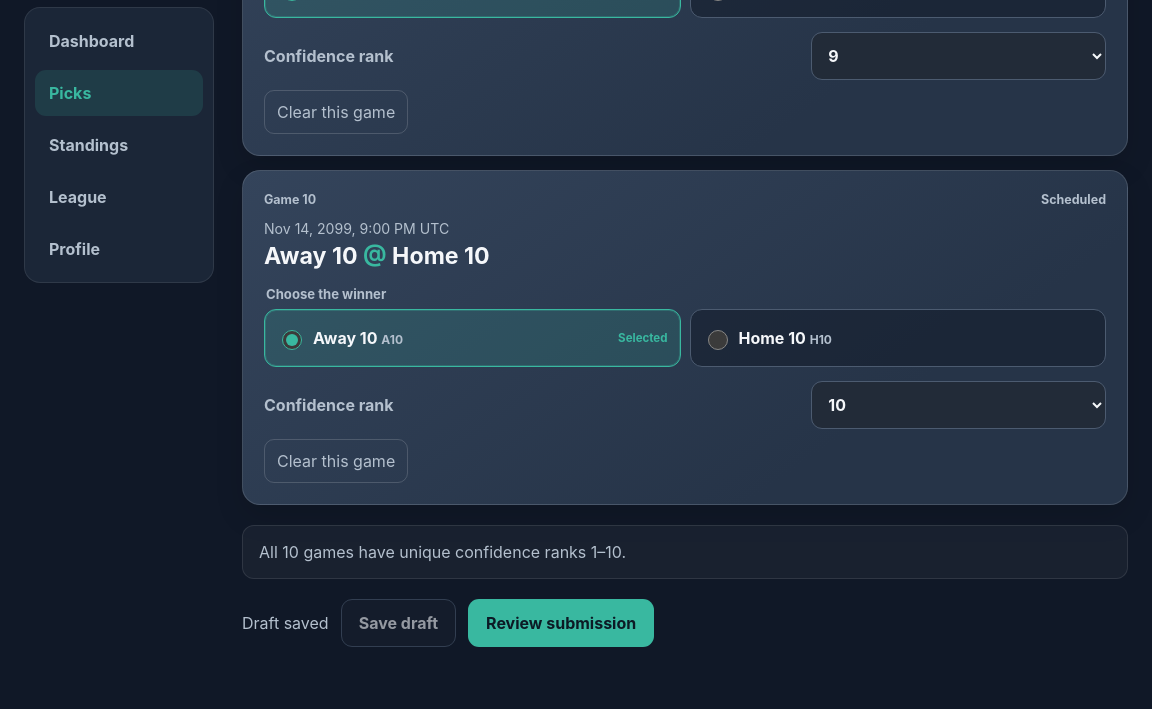
Test: React Picks workflow › does not report Submitted when an HTTP 503 is reconciled to a server Draft
The width and height of the screenshot is (1152, 709).
(page scrolled)
Click the button "Review submission".
click(561, 623)  # box left=468, top=599, right=654, bottom=647
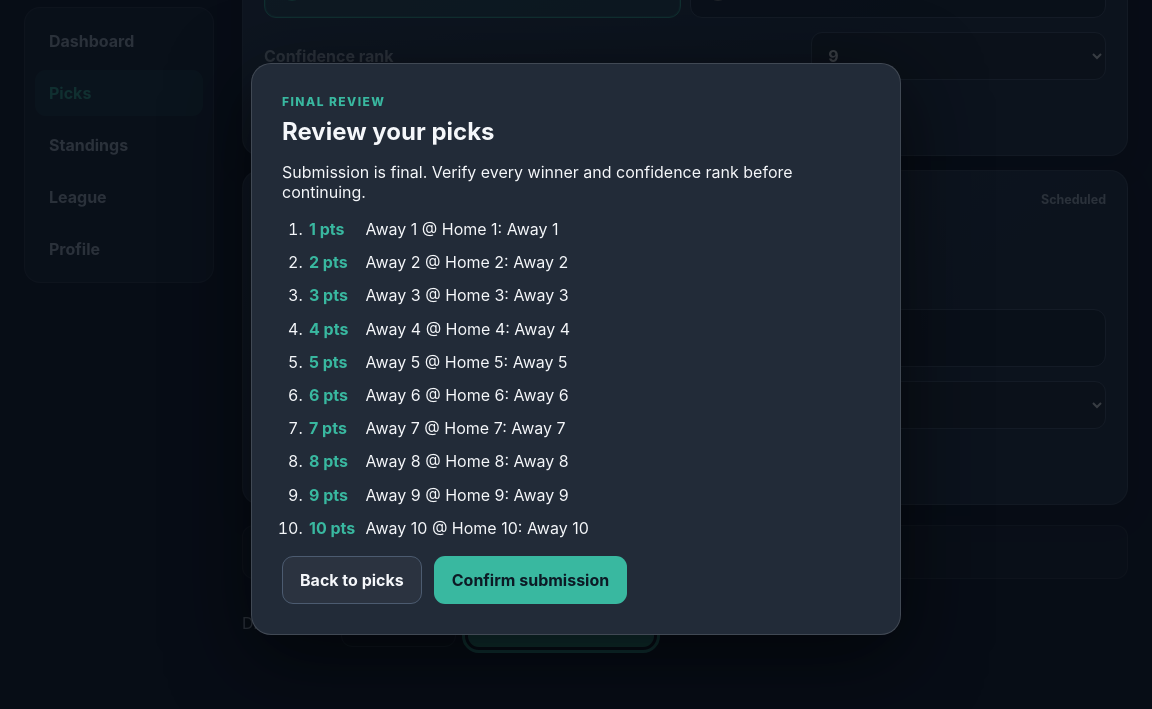
Click the button "Confirm submission".
click(531, 580)  # box left=434, top=556, right=627, bottom=604
(page scrolled)
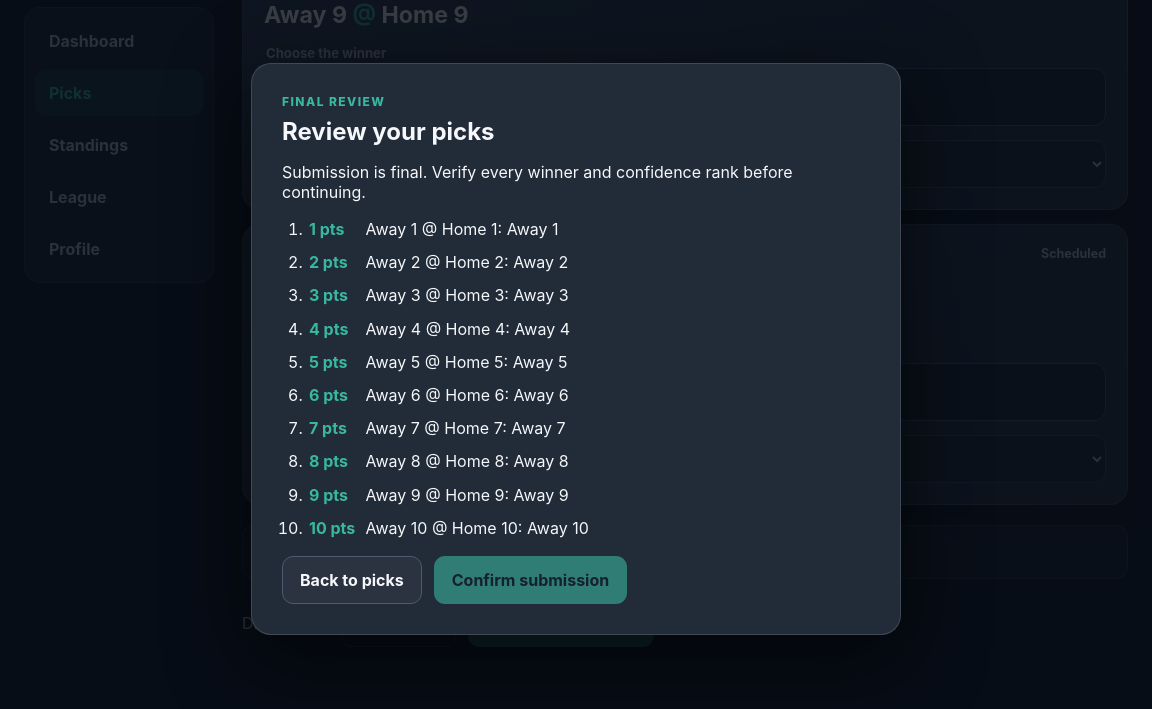
Now the button "Confirm submission" is disabled, box left=434, top=556, right=627, bottom=604
